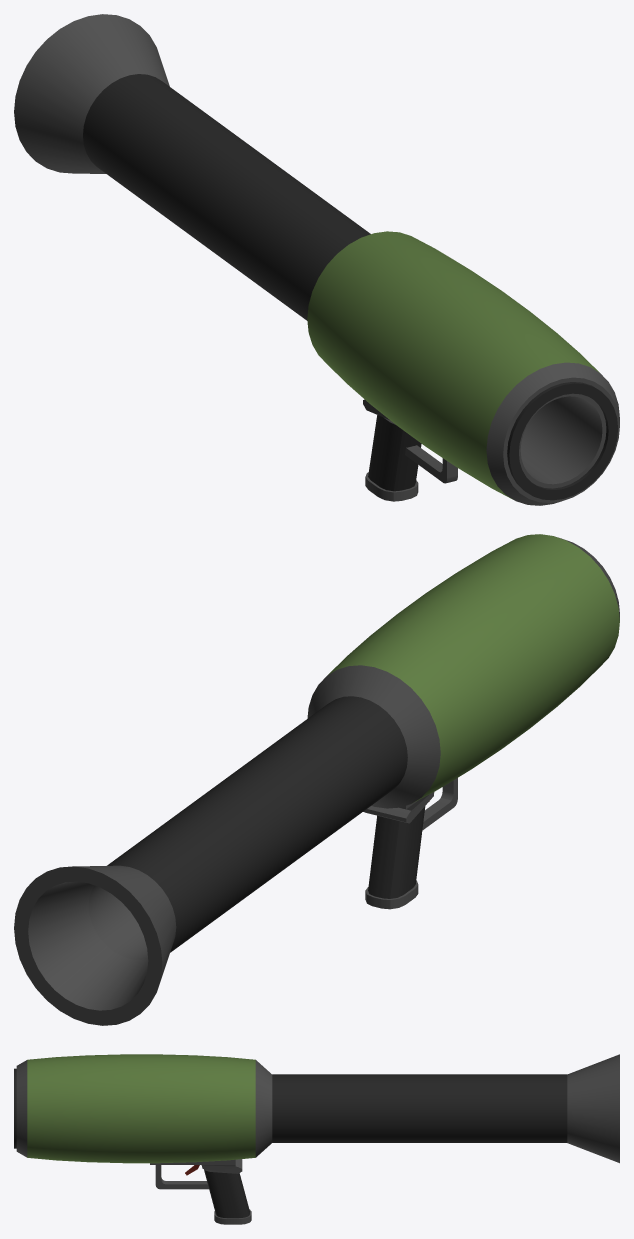
The model's file is DirectHit.glb.
3 views of the same model, one above another, from view 1: azimuth 30°, elevation 25°; view 2: azimuth 150°, elevation 25°; view 3: azimuth 270°, elevation 25° (orthographic). The views are drawn at different scales.
Visible parts, largest first — view 1: Cylinder.005; view 2: Cylinder.005; view 3: Cylinder.005.
Part boxes in pixels (<box>): Cylinder.005: <box>14,14,619,505</box>; Cylinder.005: <box>14,534,619,1025</box>; Cylinder.005: <box>14,1054,619,1224</box>.
Size of the model in its own units: 0.674 by 1.09 by 3.74.
